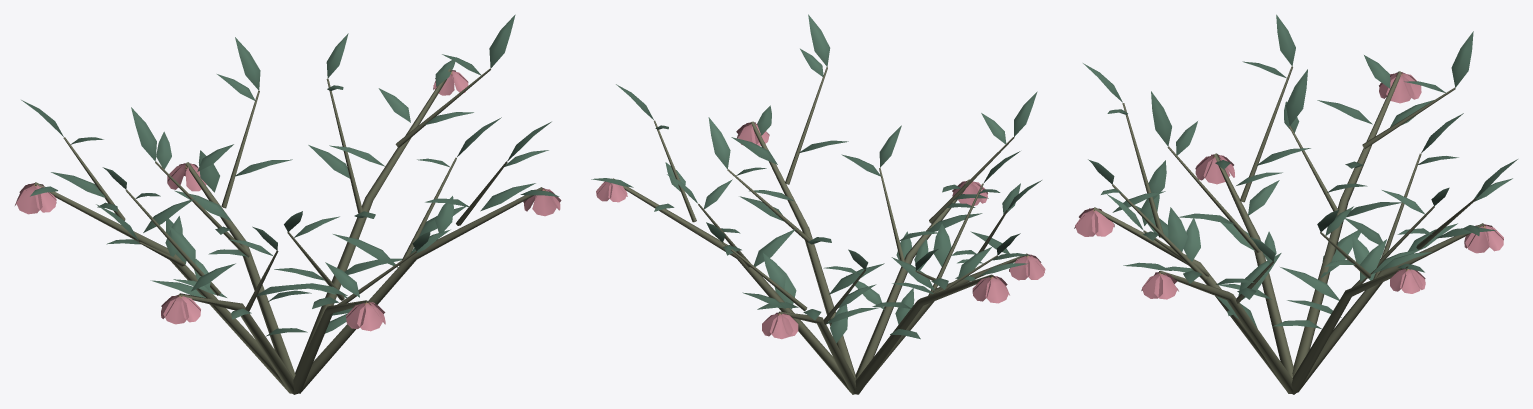
File: bog_rosemary.glb
3 renders of one model, left to right at view 1: azimuth 30°, elevation 25°; view 2: azimuth 150°, elevation 25°; view 3: azimuth 270°, elevation 25°, orthographic. The views are drawn at different scales.
Parts seen in each view (by area): view 1: bog_rosemary; view 2: bog_rosemary; view 3: bog_rosemary.
Part boxes in pixels (left/top/right/bottom): bog_rosemary: left=15, top=14, right=561, bottom=394; bog_rosemary: left=591, top=14, right=1045, bottom=394; bog_rosemary: left=1074, top=14, right=1517, bottom=394.
Bounding box in the file's own units: 0.5819 × 0.3633 × 0.4743.
